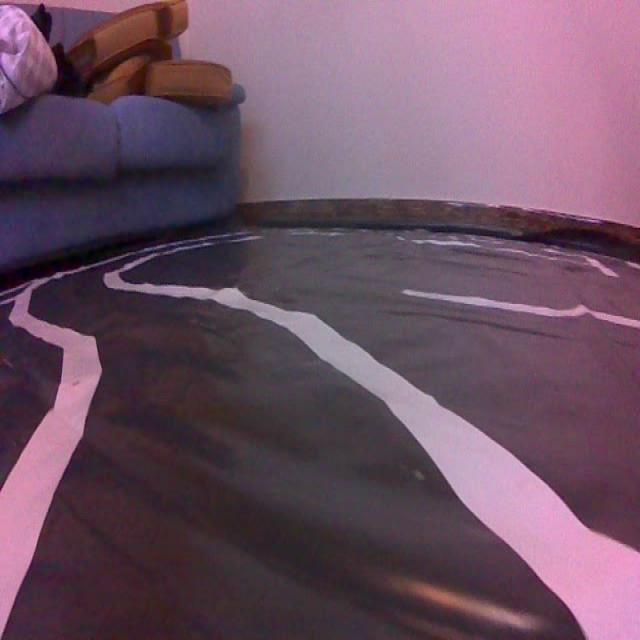LineaCarril: (105, 272, 640, 638), (0, 280, 102, 636)
